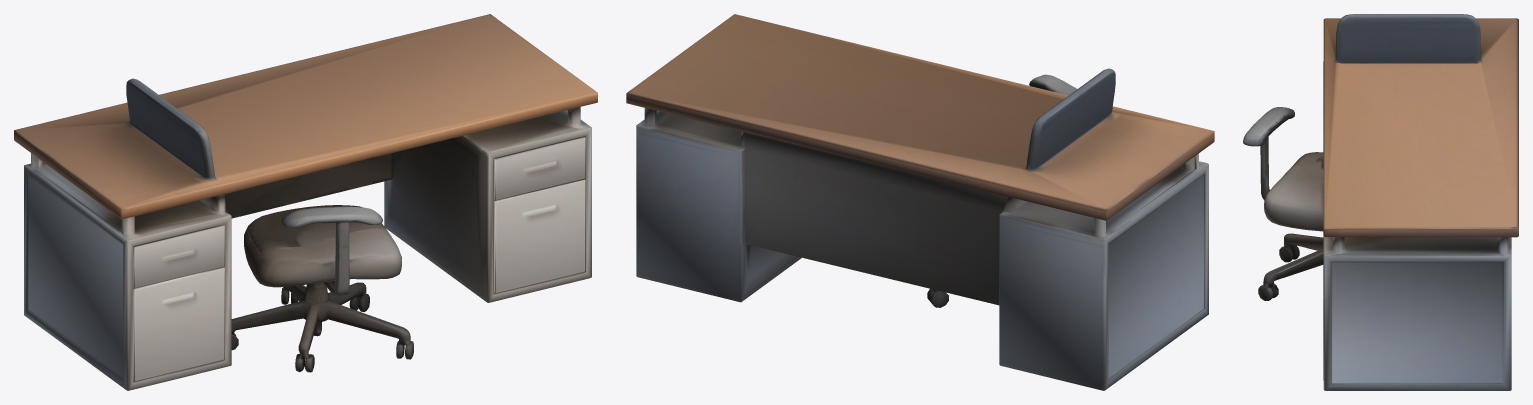
The model's file is office_desk_realistic_style_22da1241_v3.glb.
The picture shows the model from 3 angles, left to right: view 1: azimuth 30°, elevation 25°; view 2: azimuth 150°, elevation 25°; view 3: azimuth 270°, elevation 25°; orthographic projection. The views are drawn at different scales.
Visible parts, largest first — view 1: texture_pbr_20250901; view 2: texture_pbr_20250901; view 3: texture_pbr_20250901.
Part boxes in pixels (x1,y1,x2,y2): texture_pbr_20250901: (14,14,597,390); texture_pbr_20250901: (626,14,1214,390); texture_pbr_20250901: (1243,14,1518,390).
Size of the model in its own units: 1.9 by 0.9036 by 1.05.
Materials: 1 (1 with a texture image).
